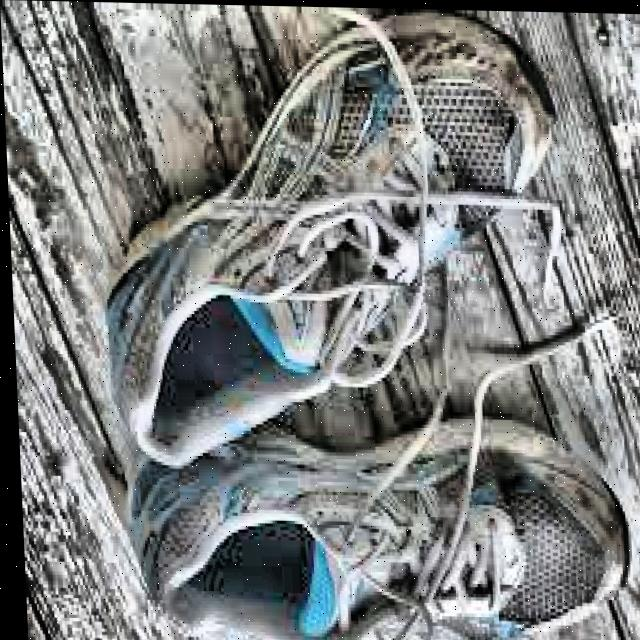shoes: (64, 1, 640, 640)
